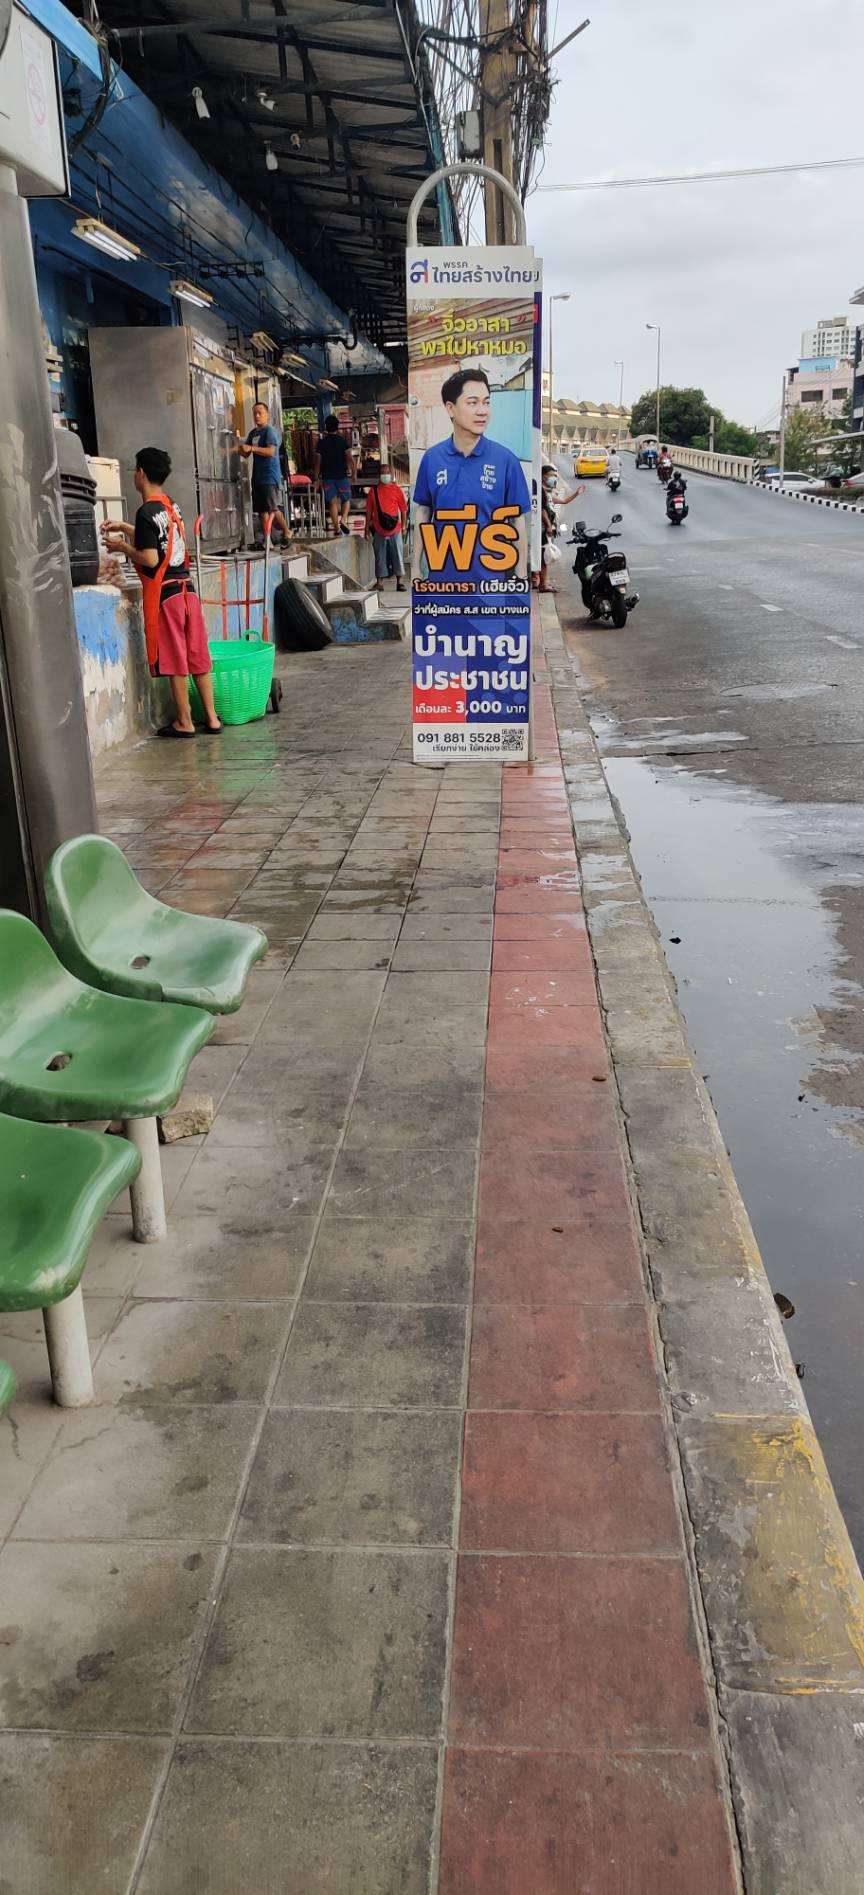Banner: (399, 243, 551, 767)
